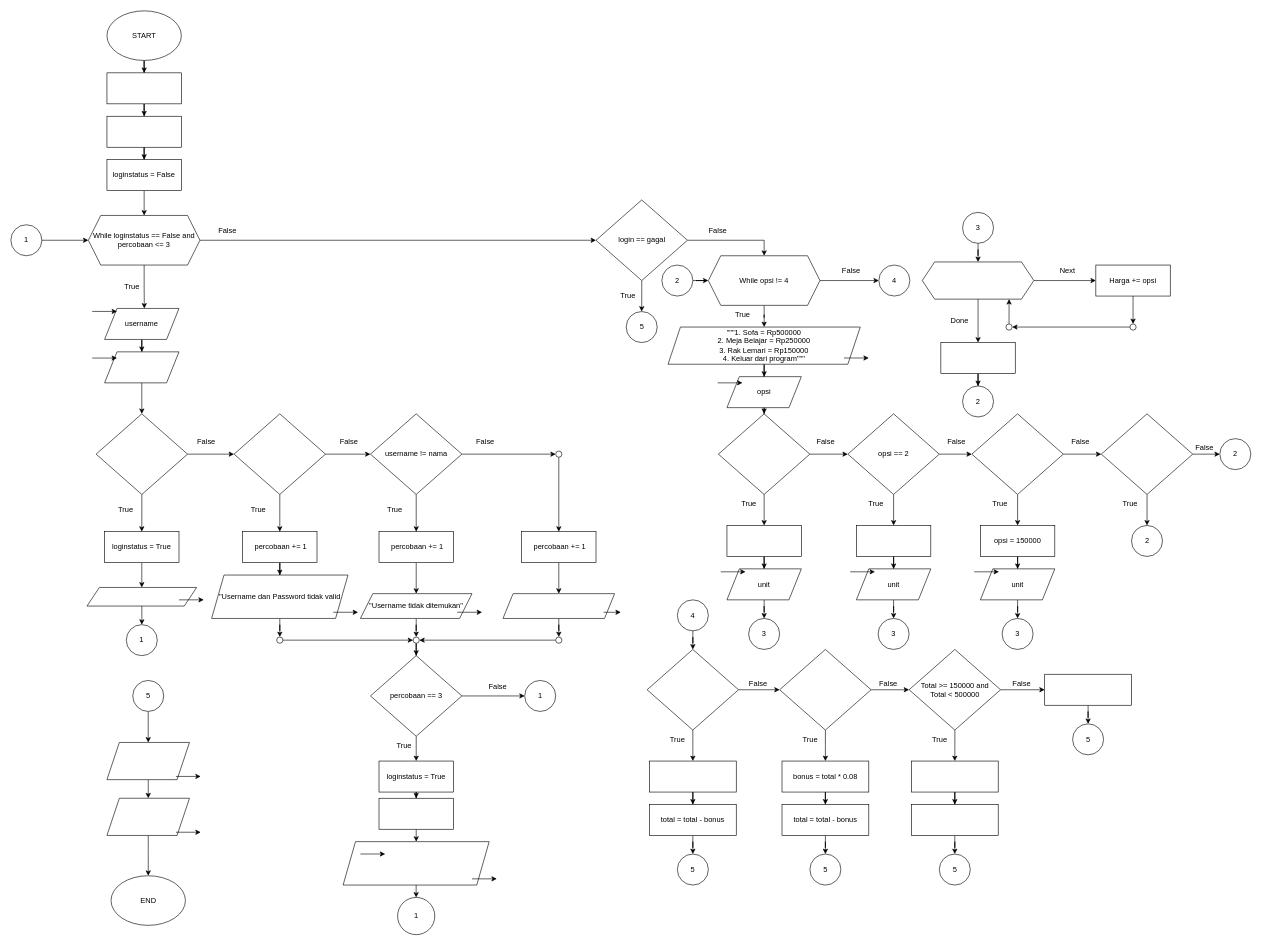
Image size: 1262x946. Some labels were removed from this diagram. Here are the shapes that lost their labels. From the top down, the centre of each, then its label:
point 143,88: nama = Haekal
point 143,131: nim = 2509106083
point 978,280: For i in range(unit)
point 141,367: password
point 977,358: Total += Harga
point 141,453: username = nama and password = nim
point 279,453: username != nama and password != nim
point 764,453: opsi == 1
point 1017,453: opsi == 3
point 1147,453: opsi == 4
point 763,540: opsi = 500000
point 893,540: opsi = 250000
point 141,596: "Login berhasil"
point 558,605: "Password salah
point 692,689: Total >= 700000
point 825,689: Total >= 500000 and Total < 700000
point 1088,689: bonus = "tidak ada"
point 147,761: Bonus
point 692,776: bonus = total * 0.2
point 954,776: bonus = "kitchen set"
point 147,816: Total
point 415,813: login = gagal
point 954,819: total = total
point 415,863: "Gagal login setelah 3 kali percobaan"
